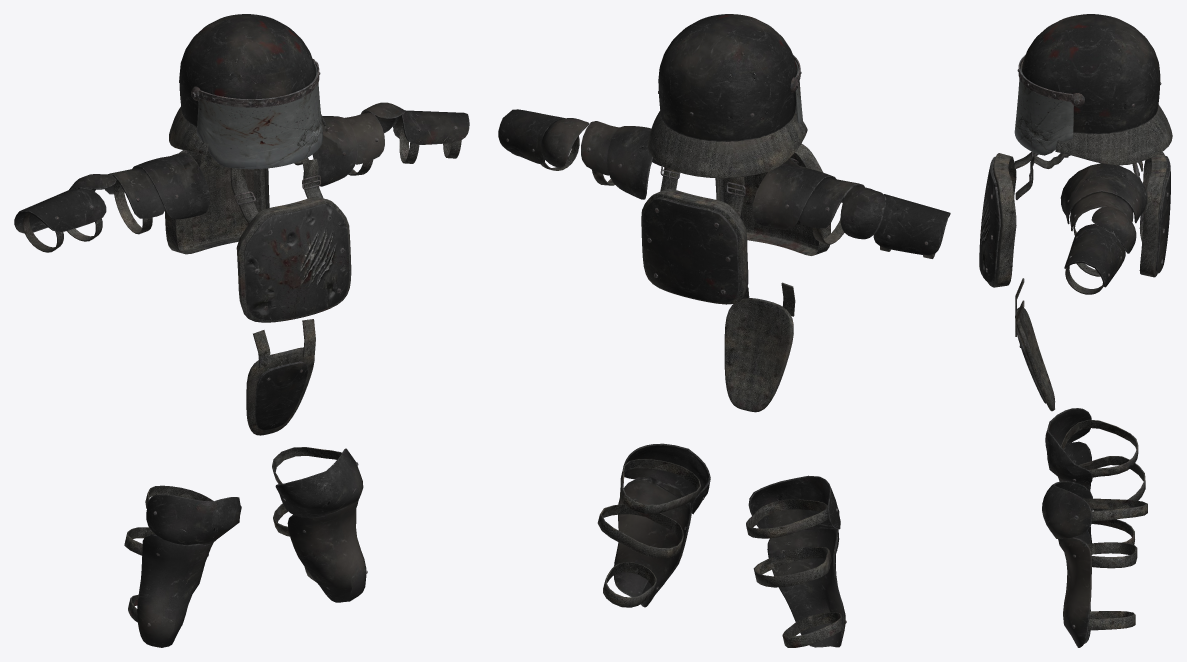
Rendered from zombie_kit_riot.glb.
3 renders of one model, left to right at view 1: azimuth 30°, elevation 25°; view 2: azimuth 150°, elevation 25°; view 3: azimuth 270°, elevation 25°, orthographic. The views are drawn at different scales.
Visible parts, largest first — view 1: Spine2__ChestPlate, Head__Helmet, RightLeg__ShinGuard, LeftLeg__ShinGuard, Head__Visor, RightArm__Pauldron, Hips__GroinGuard, Spine2__BackPlate, RightForeArm__Guard, LeftArm__Pauldron, LeftForeArm__Guard; view 2: Head__Helmet, RightLeg__ShinGuard, LeftLeg__ShinGuard, Spine2__BackPlate, Hips__GroinGuard, RightArm__Pauldron, RightForeArm__Guard, LeftArm__Pauldron, LeftForeArm__Guard, Spine2__ChestPlate; view 3: Head__Helmet, LeftLeg__ShinGuard, RightLeg__ShinGuard, Spine2__ChestPlate, LeftForeArm__Guard, LeftArm__Pauldron, Spine2__BackPlate, Head__Visor, Hips__GroinGuard.
Boxes of the visible parts, bbox=[...] form: Spine2__ChestPlate: bbox=[230, 157, 351, 322]; Head__Helmet: bbox=[169, 14, 326, 155]; RightLeg__ShinGuard: bbox=[124, 485, 241, 647]; LeftLeg__ShinGuard: bbox=[272, 447, 367, 602]; Head__Visor: bbox=[196, 63, 322, 169]; RightArm__Pauldron: bbox=[104, 152, 210, 234]; Hips__GroinGuard: bbox=[246, 319, 315, 435]; Spine2__BackPlate: bbox=[165, 150, 269, 254]; RightForeArm__Guard: bbox=[14, 174, 116, 252]; LeftArm__Pauldron: bbox=[312, 112, 384, 186]; LeftForeArm__Guard: bbox=[361, 102, 469, 163]; Head__Helmet: bbox=[647, 14, 807, 178]; RightLeg__ShinGuard: bbox=[746, 475, 846, 647]; LeftLeg__ShinGuard: bbox=[597, 443, 710, 607]; Spine2__BackPlate: bbox=[641, 165, 748, 304]; Hips__GroinGuard: bbox=[724, 282, 795, 412]; RightArm__Pauldron: bbox=[752, 163, 864, 244]; RightForeArm__Guard: bbox=[840, 186, 950, 258]; LeftArm__Pauldron: bbox=[581, 121, 664, 199]; LeftForeArm__Guard: bbox=[498, 109, 589, 170]; Spine2__ChestPlate: bbox=[715, 143, 830, 255]; Head__Helmet: bbox=[1017, 14, 1172, 165]; LeftLeg__ShinGuard: bbox=[1042, 481, 1147, 647]; RightLeg__ShinGuard: bbox=[1045, 408, 1145, 544]; Spine2__ChestPlate: bbox=[979, 151, 1070, 287]; LeftForeArm__Guard: bbox=[1064, 207, 1136, 294]; LeftArm__Pauldron: bbox=[1060, 163, 1147, 235]; Spine2__BackPlate: bbox=[1132, 152, 1170, 277]; Head__Visor: bbox=[1014, 60, 1073, 155]; Hips__GroinGuard: bbox=[1015, 278, 1055, 411].
Bounding box in the file's own units: 1.5 × 1.95 × 0.5854.
4 materials, 4 textured.
